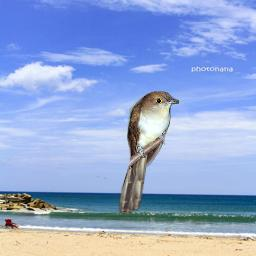Cuckoo: (119, 90, 179, 214)
